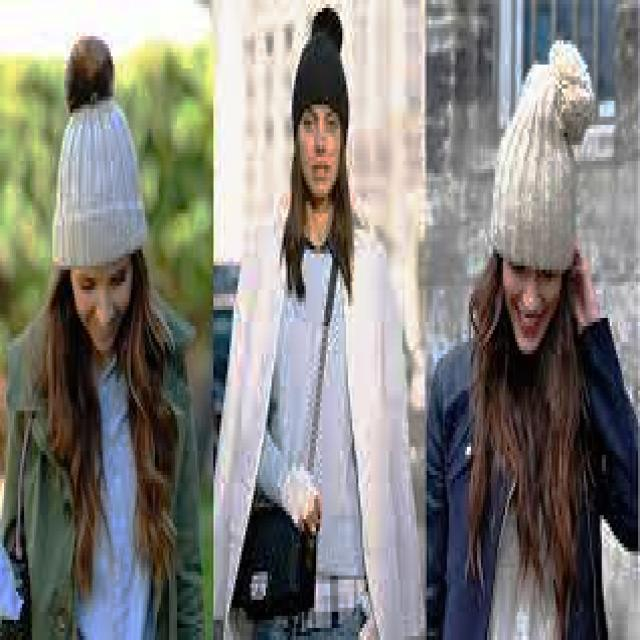TOPI: (487, 28, 594, 274), (46, 20, 151, 270), (290, 0, 350, 149)
